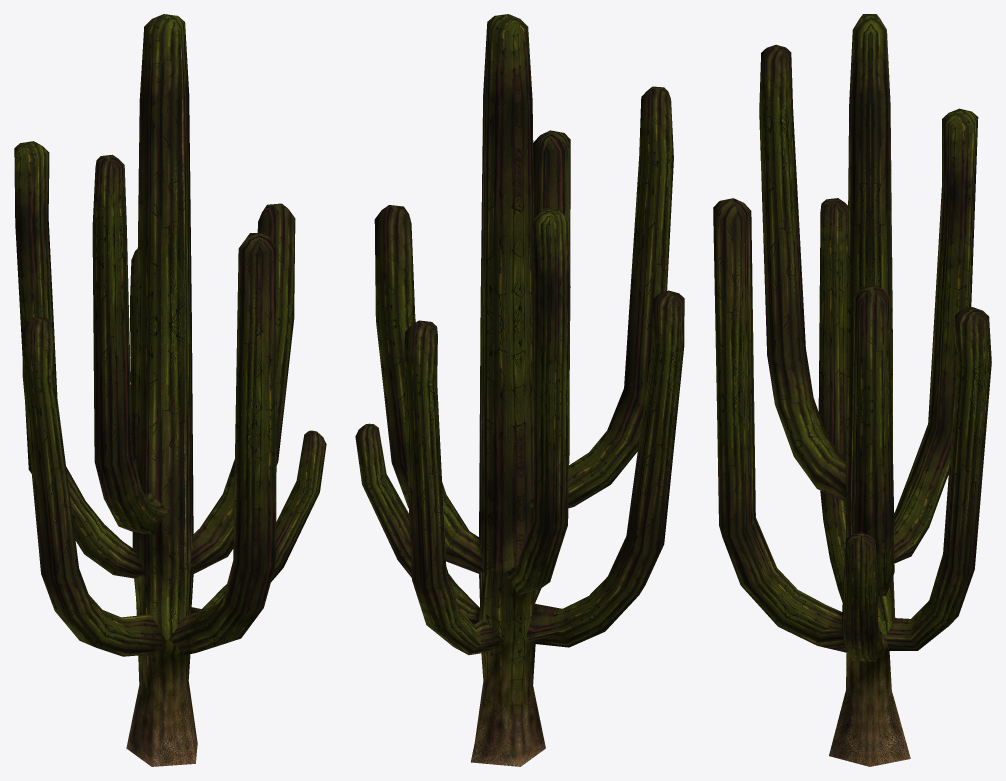
Rendered from cactus_01.fbx.
3 renders of one model, left to right at view 1: azimuth 30°, elevation 25°; view 2: azimuth 150°, elevation 25°; view 3: azimuth 270°, elevation 25°, orthographic.
Visible parts, largest first — view 1: Cylinder05; view 2: Cylinder05; view 3: Cylinder05.
Boxes of the visible parts, box(x1,y1,x2,y2) form: Cylinder05: box(14, 14, 326, 766); Cylinder05: box(355, 14, 684, 766); Cylinder05: box(713, 14, 991, 766).
Bounding box in the file's own units: 17.49 × 39.64 × 13.61.
